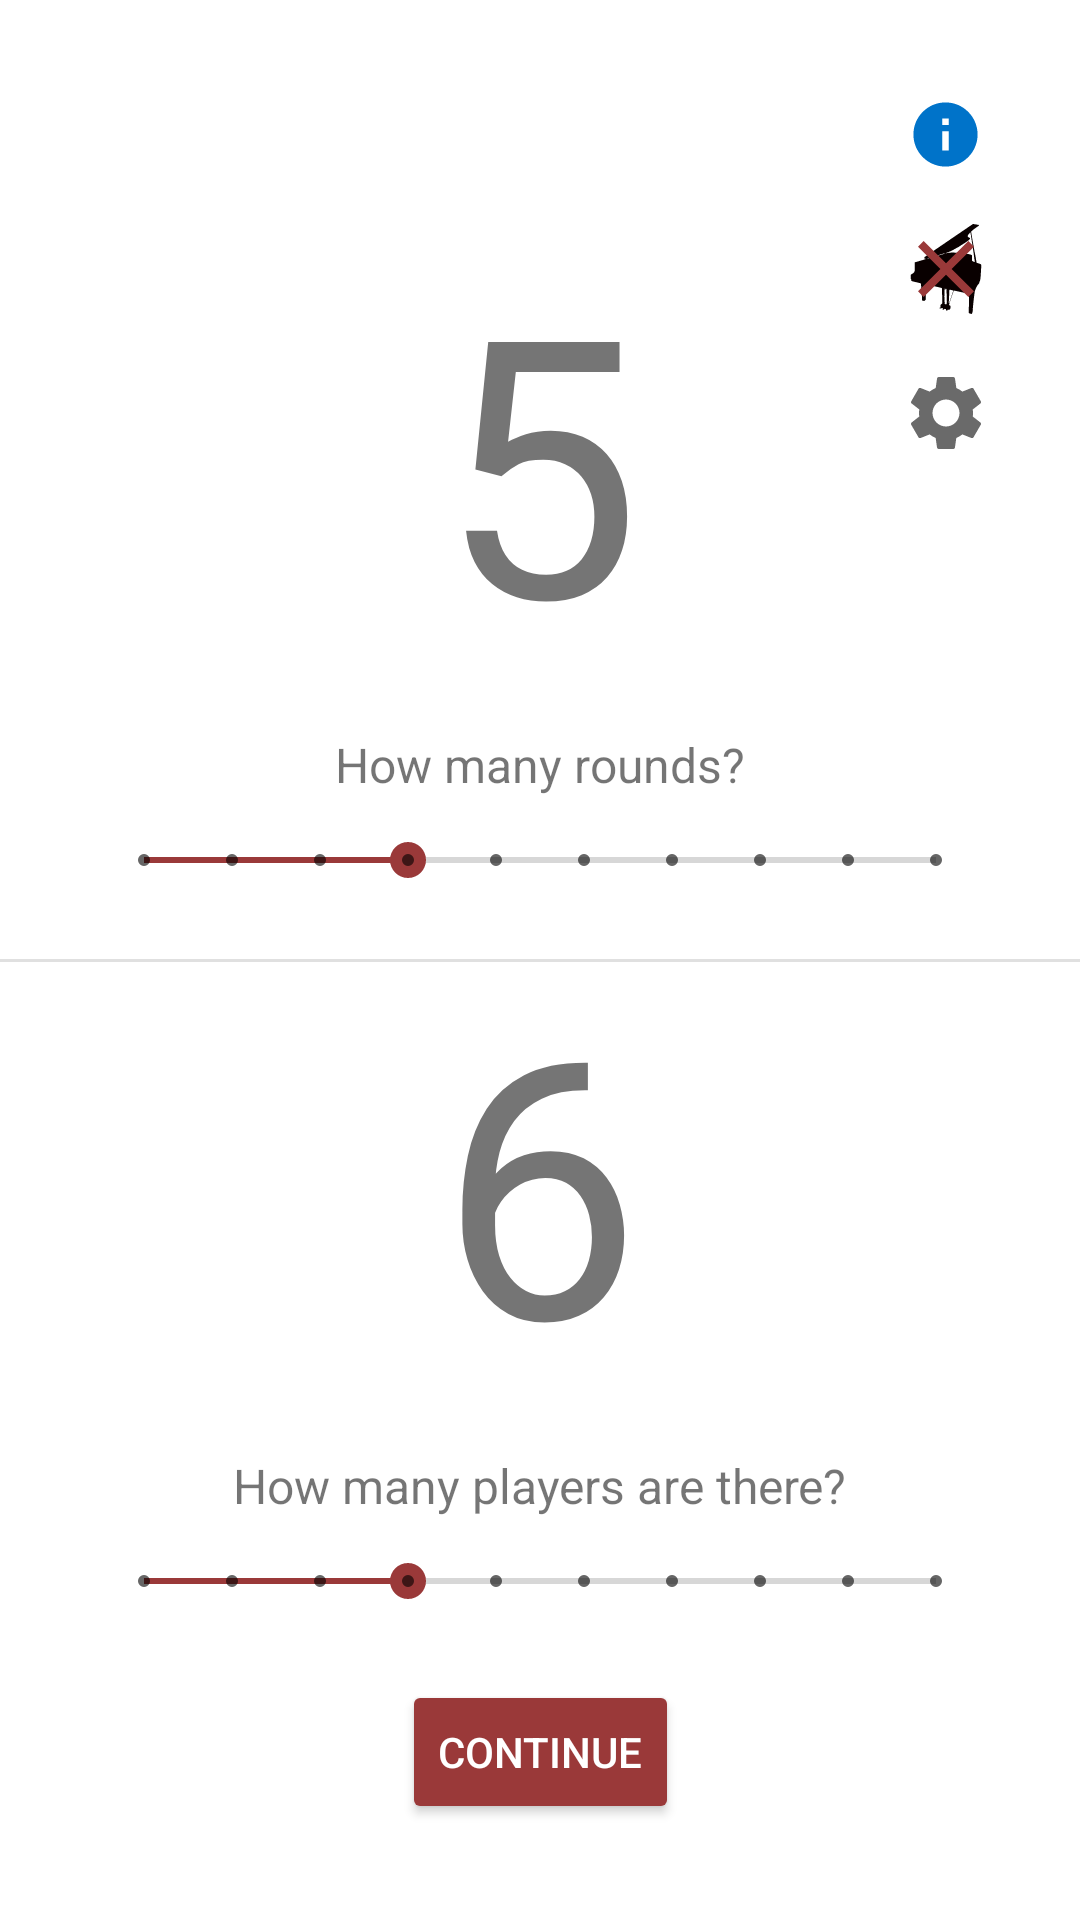

Where icons sit on this 1080px×1920px app screen, as [x1=x1, y1=y1, x2=x2, y2=y2]:
gears: [x1=911, y1=377, x2=981, y2=449]
info: [x1=913, y1=102, x2=978, y2=167]
